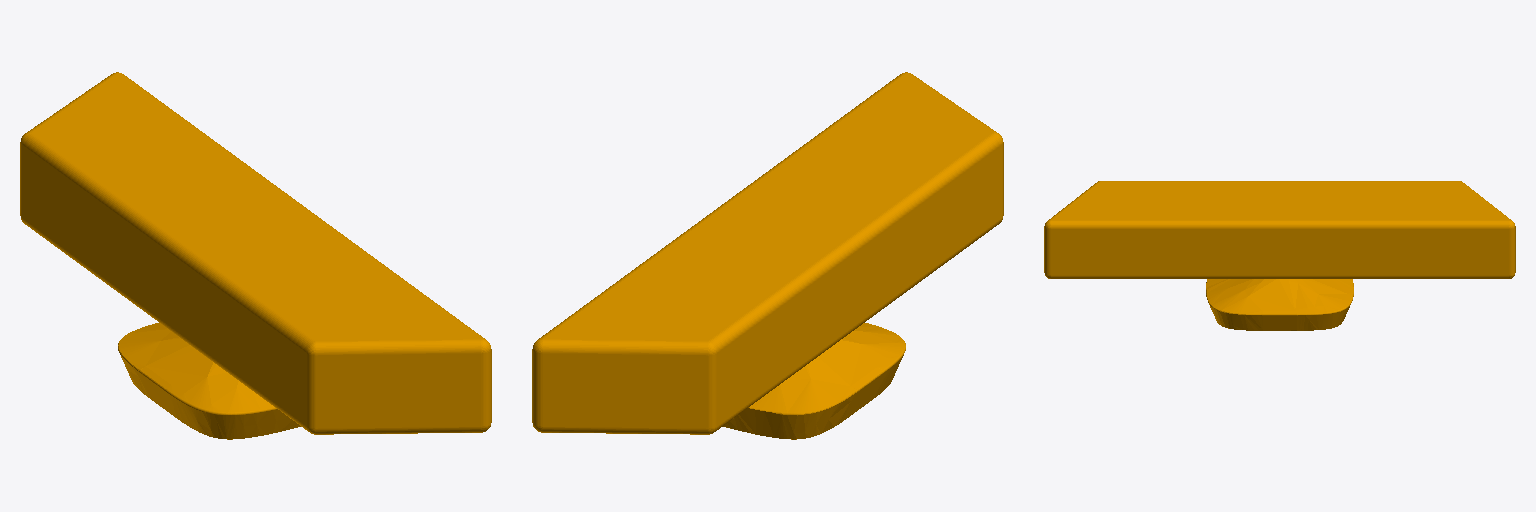
URDF robot description (kinect_1):
<?xml version="1.0"?>
    <robot name="kinect_1">

    <link name="kinect_link">
        <origin xyz="0 0 0" rpy="0 0 0"/>
        <visual>
            <origin xyz="0 0 0" rpy="0 0 1.57079632679"/>
            <geometry>
                <mesh filename="package://anya_v2/meshes/sensors/kinect.dae" />
            </geometry>
        </visual>
        <collision>
            <origin xyz="0 0 0" rpy="0 0 1.57079632679"/>
            <geometry>
                <mesh filename="package://anya_v2/meshes/sensors/kinect.stl" />
            </geometry>
        </collision>
    </link>
        

        <!-- <link name="kinect_depth_frame"/>
        <joint name="kinect_depth_joint" type="fixed">
            <parent link="kinect_link"/>
            <child link="kinect_depth_frame" />
            <origin xyz="0 -0.02  0" rpy="0 0 0"/>
        </joint>

        <link name="kinect_rgb_frame"/>
        <joint name="kinect_rgb_joint" type="fixed">
            <parent link="kinect_link"/>
            <child link="kinect_rgb_frame" />
            <origin xyz="0 -0.045  0" rpy="0 0 0"/>
        </joint>

        <link name="kinect_depth_optical_frame"/>
        <joint name="kinect_depth_optical_joint" type="fixed">
            <parent link="kinect_depth_frame"/>
            <child link="kinect_depth_optical_frame" />
            <origin xyz="0 0 0" rpy="1.57079632679 0 1.57079632679"/>
        </joint>
        
        <link name="kinect_rgb_optical_frame"/>
        <joint name="kinect_rgb_optical_joint" type="fixed">
            <parent link="kinect_rgb_frame"/>
            <child link="kinect_rgb_optical_frame" />
            <origin xyz="0 0 0" rpy="1.57079632679 0 1.57079632679"/>
        </joint> -->

        <gazebo reference="kinect_link">
            <sensor type="depth" name="kinect">
                <always_on>true</always_on>
                <update_rate>20.0</update_rate>
                <camera>
                    <horizontal_fov>1.047198</horizontal_fov>
                    <image>
                        <format>R8G8B8</format>
                        <width>640</width>
                        <height>480</height>
                    </image>
                    <clip>
                        <near>0.05</near>
                        <far>3.0</far>
                    </clip>
                </camera>
                <plugin name="kinect_controller" filename="libgazebo_ros_openni_kinect.so">
                    <cameraName>kinect</cameraName>
                    <alwaysOn>true</alwaysOn>
                    <updateRate>0</updateRate>
                    <imageTopicName>/camera/color/image_raw</imageTopicName>
                    <cameraInfoTopicName>/camera/color/camera_info</cameraInfoTopicName>
                    <depthImageTopicName>/camera/depth/image_raw</depthImageTopicName>
                    <depthImageCameraInfoTopicName>/camera/depth/camera_info</depthImageCameraInfoTopicName>
                    <pointCloudTopicName>/camera/depth/points</pointCloudTopicName>
                    <frameName>camera_link</frameName>
                    <baseline>0.1</baseline>
                    <distortion_k1>0.0</distortion_k1>
                    <distortion_k2>0.0</distortion_k2>
                    <distortion_k3>0.0</distortion_k3>
                    <distortion_t1>0.0</distortion_t1>
                    <distortion_t2>0.0</distortion_t2>
                    <pointCloudCutoff>0.5</pointCloudCutoff>
                    <pointCloudCutoffMax>3.0</pointCloudCutoffMax>
                </plugin>                
            </sensor>
        </gazebo>
    
</robot>

--- Facts derived from the render (not from the file) ---
3 views of the same robot in one strip: view 1: azimuth 30°, elevation 25°; view 2: azimuth 150°, elevation 25°; view 3: azimuth 270°, elevation 25° (orthographic).
Robot: kinect_1 — 1 links, 0 joints (none); root link kinect_link; default pose: every joint at zero.
Visible links, largest first — view 1: kinect_link; view 2: kinect_link; view 3: kinect_link.
Link boxes in pixels (x1,y1,x2,y2): kinect_link: (20, 72, 491, 439); kinect_link: (532, 72, 1003, 439); kinect_link: (1044, 181, 1515, 330).
Size in the robot's own frame: 0.0725 by 0.2786 by 0.07 metres.
Meshes: 1 distinct files referenced, 1 mesh visuals loaded (1 Collada DAE).
